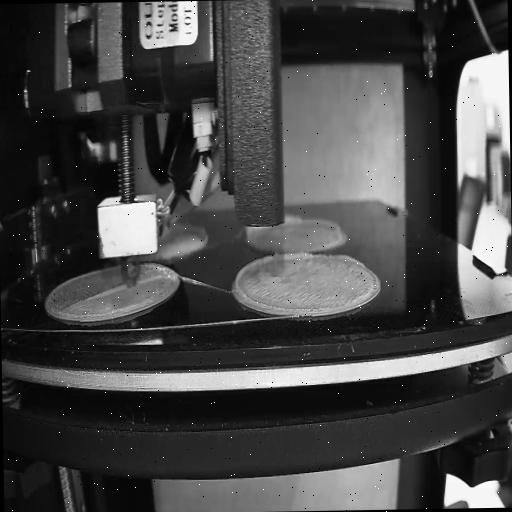over_extrusion: (234, 250, 312, 313), (86, 280, 128, 304), (331, 250, 366, 272), (300, 216, 340, 234), (138, 274, 164, 288)
